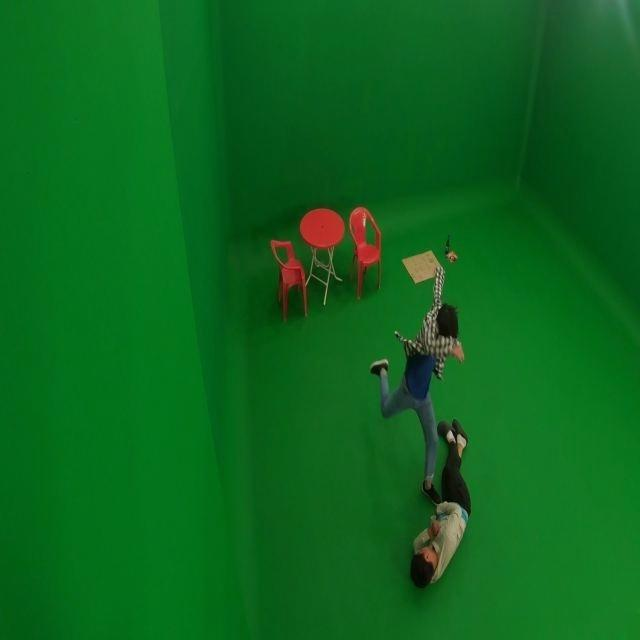fight: (370, 255, 477, 591)
